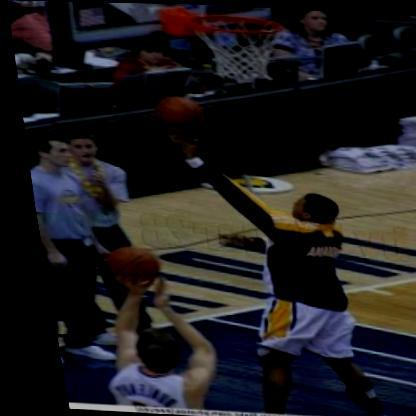basketball: (141, 87, 208, 138), (89, 239, 157, 287)
